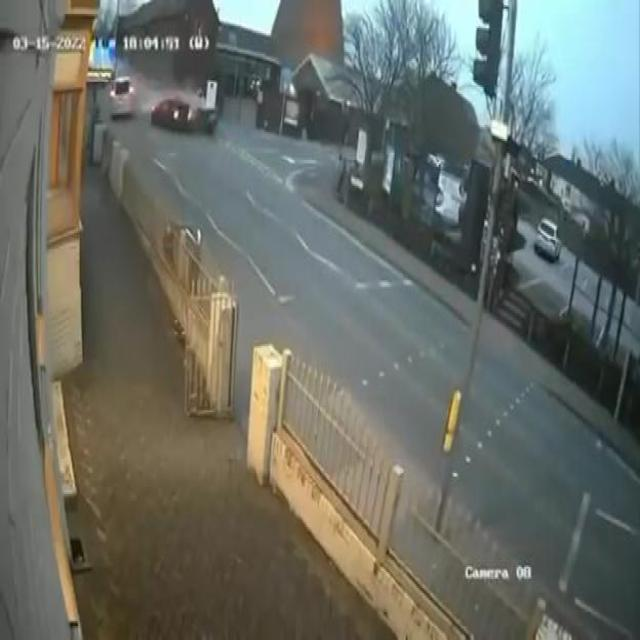accident: (146, 80, 224, 143)
